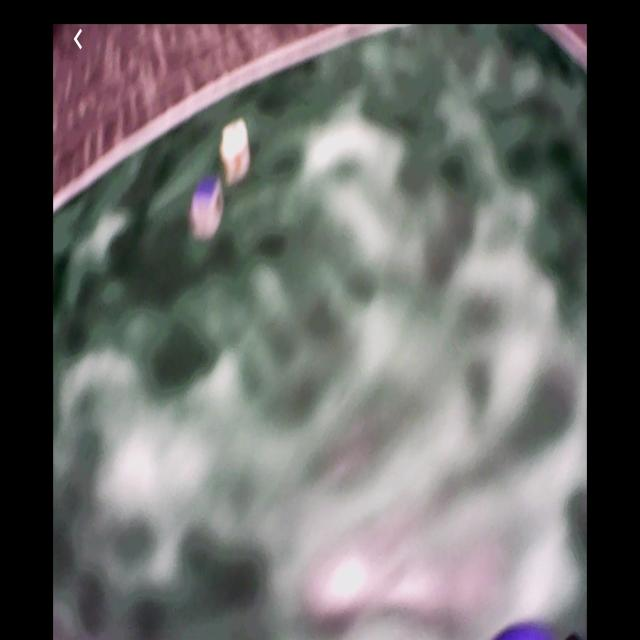ball: (491, 621, 566, 640)
